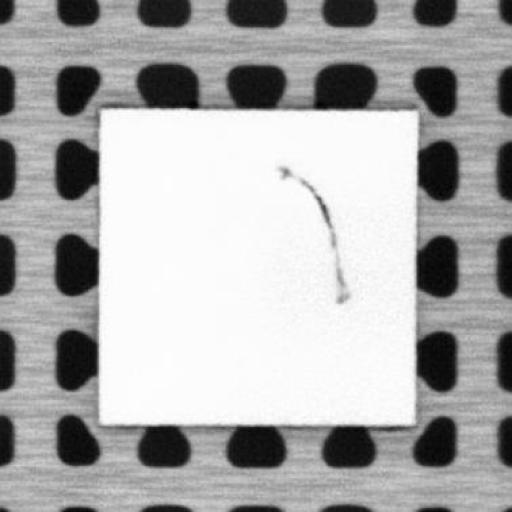DIE_INK: (274, 164, 350, 302)
